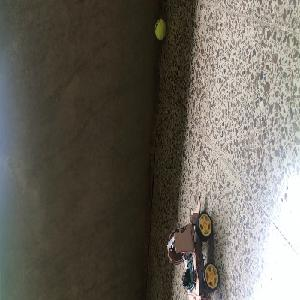Ball: (154, 18, 166, 39)
Robot: (167, 196, 220, 299)
